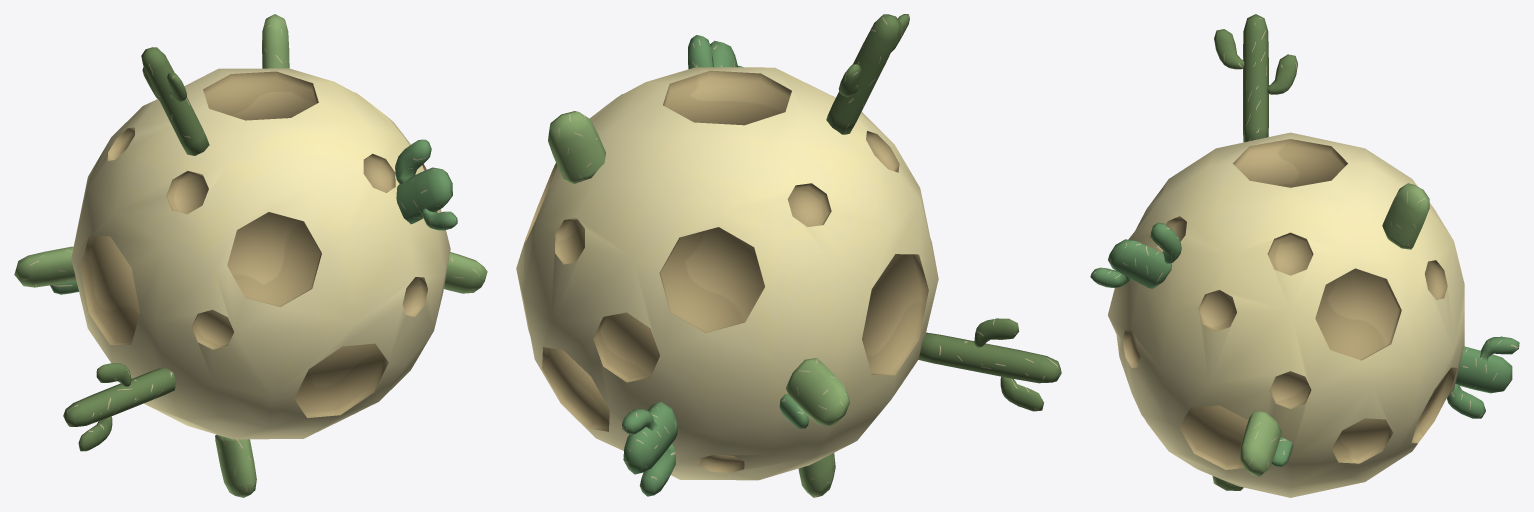
File: 3D_PianetaObbiettivo.fbx
3 views of the same model, side by side, from view 1: azimuth 30°, elevation 25°; view 2: azimuth 150°, elevation 25°; view 3: azimuth 270°, elevation 25° (orthographic). The views are drawn at different scales.
Visible parts, largest first — view 1: Pianeta Obbiettivo; view 2: Pianeta Obbiettivo; view 3: Pianeta Obbiettivo.
Part boxes in pixels (x1=…): Pianeta Obbiettivo: x1=14, y1=14, x2=487, y2=497; Pianeta Obbiettivo: x1=516, y1=14, x2=1061, y2=497; Pianeta Obbiettivo: x1=1090, y1=14, x2=1519, y2=497.
Bounding box in the file's own units: 361 × 349 × 309.
